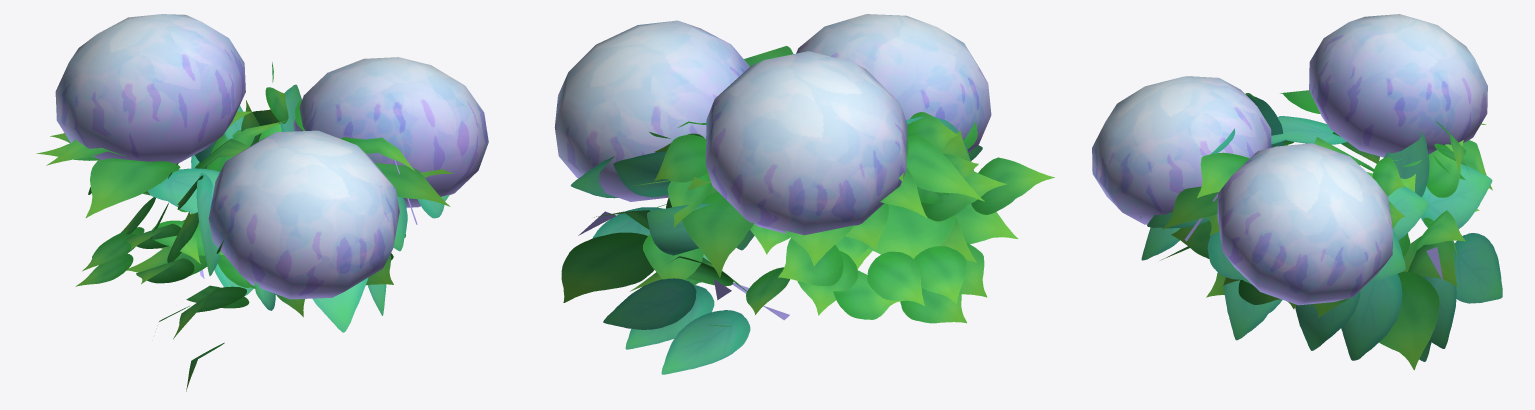
3 renders of one model, left to right at view 1: azimuth 30°, elevation 25°; view 2: azimuth 150°, elevation 25°; view 3: azimuth 270°, elevation 25°, orthographic. The views are drawn at different scales.
Parts seen in each view (by area): view 1: SM_F19a; view 2: SM_F19a; view 3: SM_F19a.
Part boxes in pixels (x1,y1,x2,y2): SM_F19a: (36,14,488,391); SM_F19a: (554,14,1054,374); SM_F19a: (1092,14,1502,370).
Bounding box in the file's own units: 150 × 119 × 146.
Materials: 1 (1 with a texture image).
